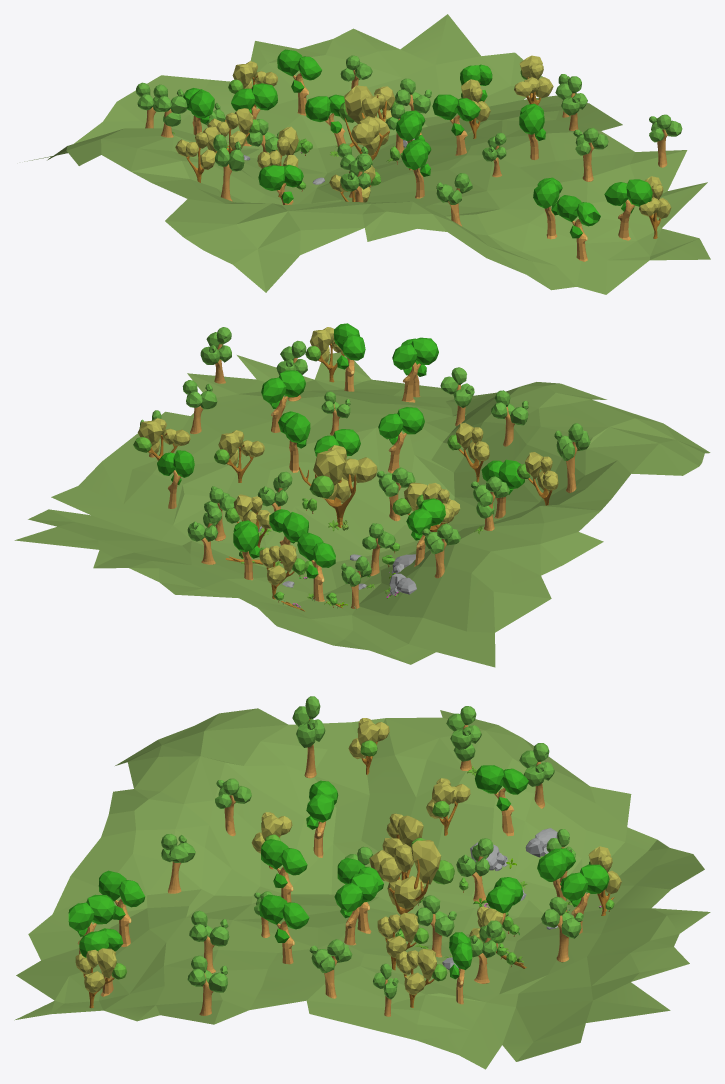
Rendered from Environment.fbx.
3 renders of one model, top to bottom at view 1: azimuth 30°, elevation 25°; view 2: azimuth 150°, elevation 25°; view 3: azimuth 270°, elevation 25°, orthographic. The views are drawn at different scales.
Visible parts, largest first — view 1: Terrain_2; view 2: Terrain_2; view 3: Terrain_2.
Boxes of the visible parts, box(x1,y1,x2,y2) form: Terrain_2: box(24, 14, 710, 294); Terrain_2: box(14, 323, 710, 667); Terrain_2: box(14, 696, 710, 1069).
Size of the model in its own units: 11202 by 2694 by 11647.
